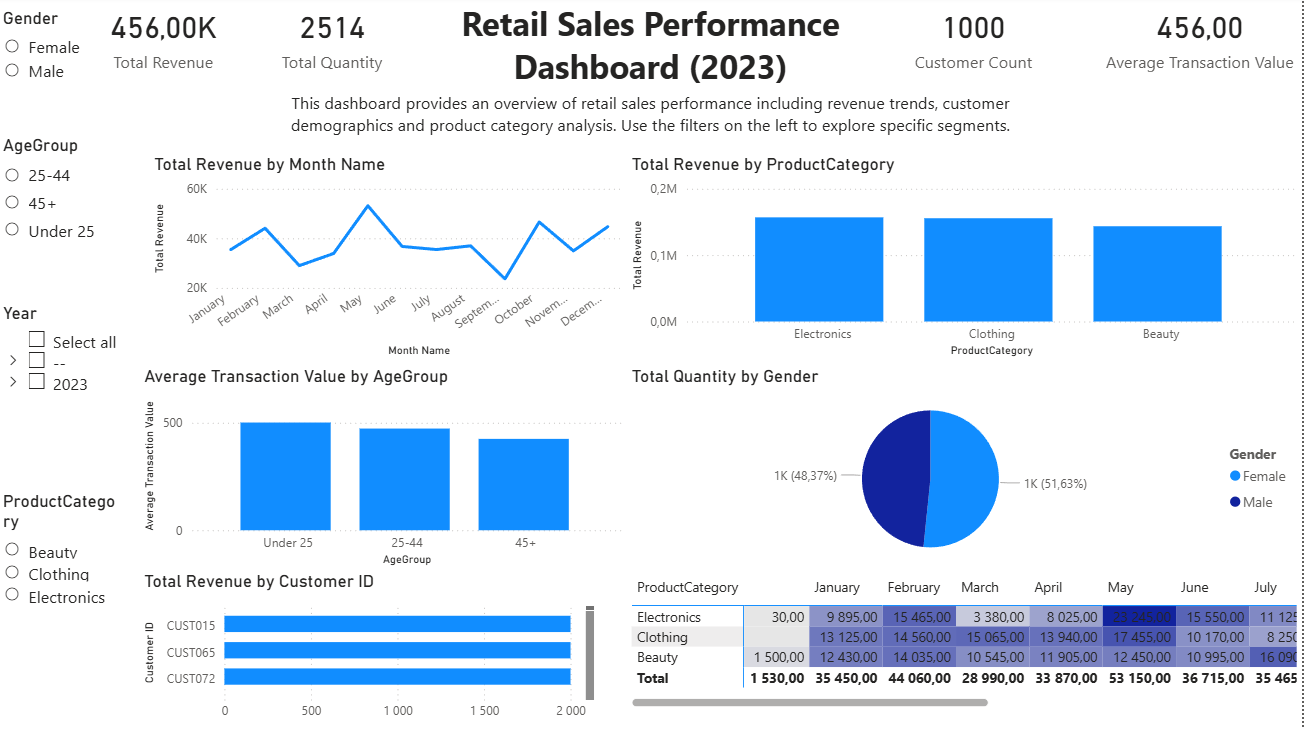

This screenshot's page, from the dashboard's own definition file:
{"tool":"powerbi","page":{"name":"Page 1","canvas":[1280,720],"ordinal":0},"visuals":[{"type":"clusteredColumnChart","fields":{"Category":["Products.ProductCategory"],"Y":["Measure Table.Total Revenue"]},"box":[617.2,154.6,662.6,204.9],"z":0},{"type":"card","fields":{"Values":["Measure Table.Total Revenue"]},"box":[98.2,0,128.8,79.8],"z":1000},{"type":"card","fields":{"Values":["Measure Table.Total Quantity"]},"box":[268.7,0,119,79.8],"z":2000},{"type":"card","fields":{"Values":["Measure Table.Customer Count"]},"box":[887.4,0,141.1,79.8],"z":3000},{"type":"card","fields":{"Values":["Measure Table.Average Transaction Value"]},"box":[1079.9,0,200.3,79.6],"z":4000},{"type":"clusteredColumnChart","fields":{"Category":["Customers.AgeGroup"],"Y":["Measure Table.Average Transaction Value"]},"box":[138.7,363.2,478.5,201.2],"z":5000},{"type":"pieChart","fields":{"Category":["Customers.Gender"],"Y":["Measure Table.Total Quantity"]},"box":[617.2,363.2,662.6,201.2],"z":6000},{"type":"lineChart","fields":{"Y":["Measure Table.Total Revenue"],"Category":["Dim_Date.Month Name"]},"box":[148.5,154.6,468.7,204.9],"z":7000},{"type":"listSlicer","fields":{"Values":["Customers.Gender"]},"box":[0,11,98.2,224.5],"z":8000},{"type":"listSlicer","fields":{"Values":["Customers.AgeGroup"]},"box":[0,136.2,123.9,249.1],"z":9000},{"type":"pivotTable","fields":{"Rows":["Products.ProductCategory"],"Columns":["Dim_Date.Month Name"],"Values":["Measure Table.Total Revenue"]},"box":[617.2,564.4,662.6,138.7],"z":10000},{"type":"clusteredBarChart","fields":{"Category":["Customers.Customer ID"],"Y":["Measure Table.Total Revenue"]},"box":[138.7,564.4,451.5,155.8],"z":11000},{"type":"listSlicer","fields":{"Values":["Dim_Date.Date.Variation.Date Hierarchy.Year","Dim_Date.Date.Variation.Date Hierarchy.Quarter","Dim_Date.Date.Variation.Date Hierarchy.Month","Dim_Date.Date.Variation.Date Hierarchy.Day"]},"box":[0,300.6,123.9,201.2],"z":12000},{"type":"listSlicer","fields":{"Values":["Products.ProductCategory"]},"box":[0,485.9,138.7,234.4],"z":13000},{"type":"textbox","box":[441.7,0,397.5,100.6],"z":14000},{"type":"textbox","box":[271.9,88.8,736.2,55.2],"z":15000}]}

Visuals, with their boxes in screenshot pixels (x1, y1, x2, y2), scaled from the page's 1280x720 canvas onto the 1304x729 screenshot:
clusteredColumnChart - Products.ProductCategory x Measure Table.Total Revenue: {"left": 629, "top": 157, "right": 1303, "bottom": 364}
card - Measure Table.Total Revenue: {"left": 100, "top": 0, "right": 231, "bottom": 81}
card - Measure Table.Total Quantity: {"left": 274, "top": 0, "right": 395, "bottom": 81}
card - Measure Table.Customer Count: {"left": 904, "top": 0, "right": 1048, "bottom": 81}
card - Measure Table.Average Transaction Value: {"left": 1100, "top": 0, "right": 1303, "bottom": 81}
clusteredColumnChart - Customers.AgeGroup x Measure Table.Average Transaction Value: {"left": 141, "top": 368, "right": 629, "bottom": 571}
pieChart - Customers.Gender x Measure Table.Total Quantity: {"left": 629, "top": 368, "right": 1303, "bottom": 571}
lineChart - Measure Table.Total Revenue x Dim_Date.Month Name: {"left": 151, "top": 157, "right": 629, "bottom": 364}
listSlicer - Customers.Gender: {"left": 0, "top": 11, "right": 100, "bottom": 238}
listSlicer - Customers.AgeGroup: {"left": 0, "top": 138, "right": 126, "bottom": 390}
pivotTable - Products.ProductCategory x Dim_Date.Month Name: {"left": 629, "top": 571, "right": 1303, "bottom": 712}
clusteredBarChart - Customers.Customer ID x Measure Table.Total Revenue: {"left": 141, "top": 571, "right": 601, "bottom": 728}
listSlicer - Dim_Date.Date.Variation.Date Hierarchy.Year x Dim_Date.Date.Variation.Date Hierarchy.Quarter: {"left": 0, "top": 304, "right": 126, "bottom": 508}
listSlicer - Products.ProductCategory: {"left": 0, "top": 492, "right": 141, "bottom": 728}
textbox: {"left": 450, "top": 0, "right": 855, "bottom": 102}
textbox: {"left": 277, "top": 90, "right": 1027, "bottom": 146}
